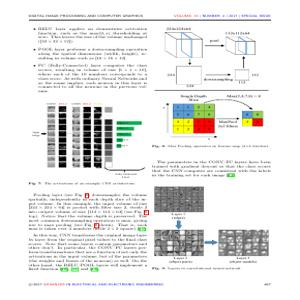diagram: (153, 185, 273, 265), (32, 101, 146, 179), (153, 24, 269, 89), (156, 93, 268, 139)
text: (28, 190, 151, 275), (30, 24, 150, 97), (151, 159, 273, 179)
